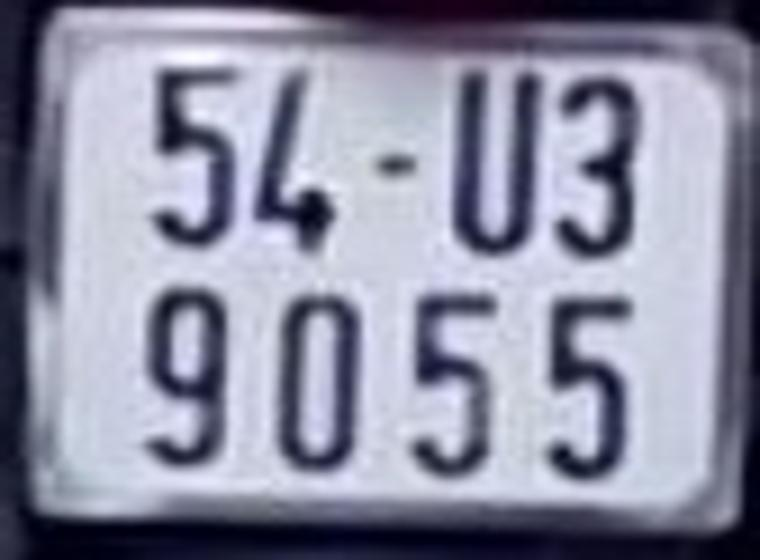-: (374, 149, 420, 178)
0: (274, 291, 364, 478)
3: (556, 76, 639, 271)
4: (254, 69, 341, 251)
5: (544, 290, 637, 481), (407, 287, 496, 482), (148, 68, 246, 245)
9: (139, 282, 230, 473)
U: (449, 62, 542, 258)
